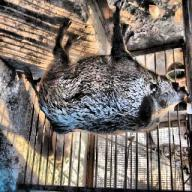boar: (24, 1, 190, 136)
